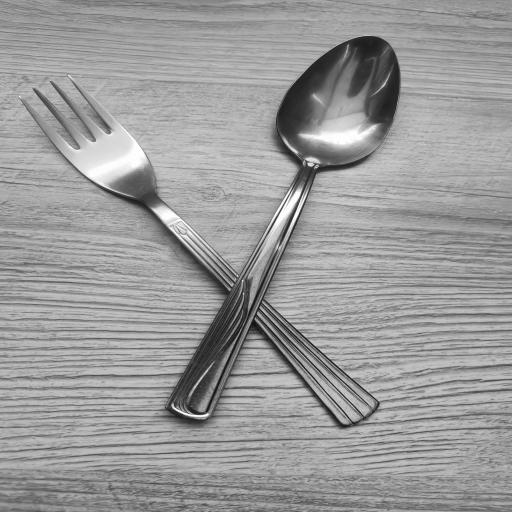fork: (14, 76, 379, 428)
spoon: (166, 35, 403, 424)
